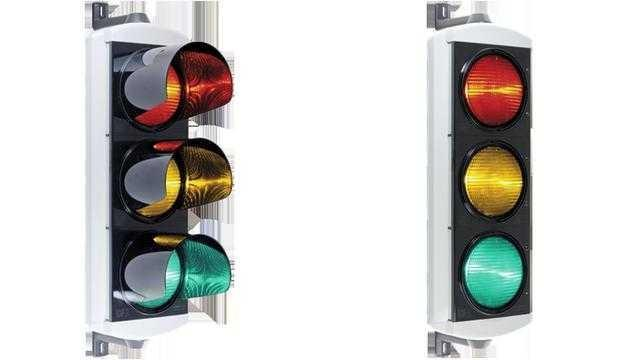5: (110, 40, 228, 136), (458, 48, 528, 137)
9: (113, 137, 231, 232), (453, 140, 533, 224)
red traffic light: (112, 236, 230, 316), (453, 229, 532, 317)
